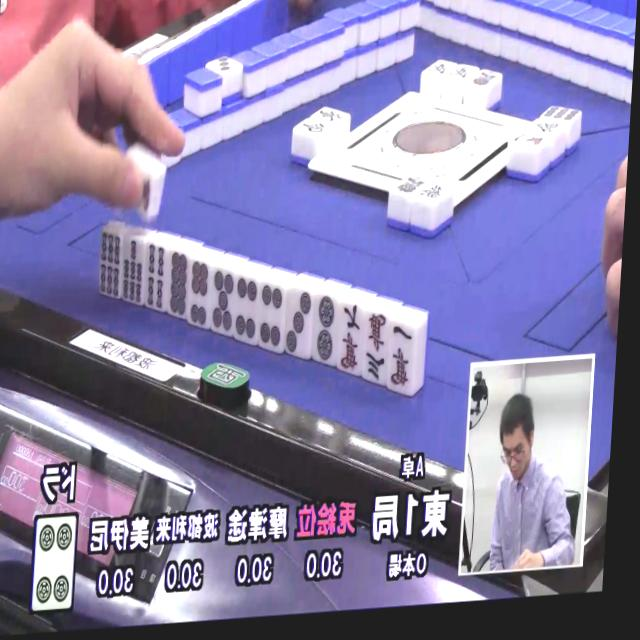m1: (384, 320, 421, 396)
m3: (358, 310, 392, 387)
m7: (331, 299, 367, 377)
s4: (140, 240, 172, 316)
s6: (93, 227, 124, 303)
s7: (118, 236, 148, 307)
t2: (309, 293, 343, 368)
t3: (280, 287, 317, 362)
t4: (27, 511, 79, 611), (253, 280, 287, 356), (229, 272, 262, 346)
t5: (207, 265, 240, 339)
t6: (183, 258, 217, 332)
t8: (162, 249, 192, 321)
